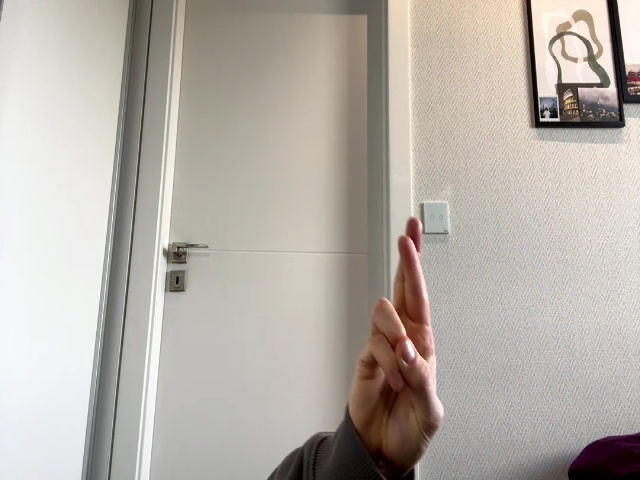R: (348, 216, 444, 453)
